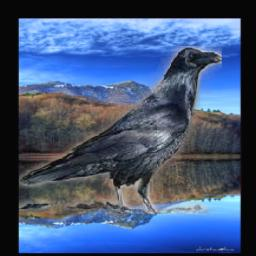Crow: (19, 47, 222, 215)
